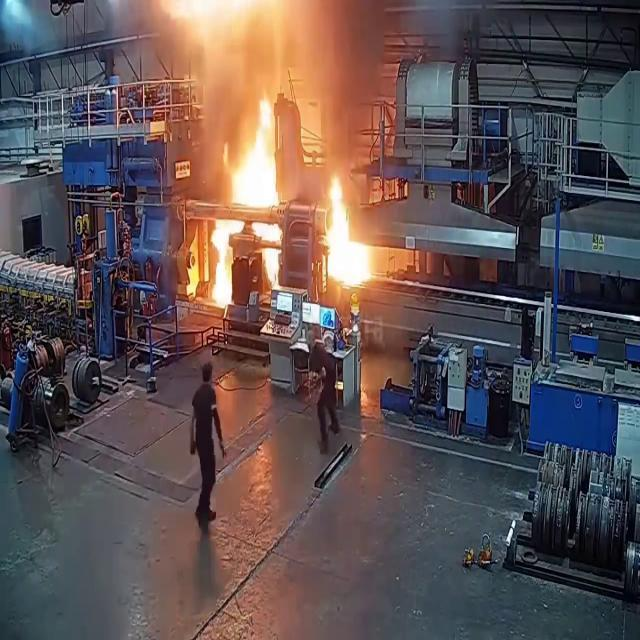Fire: (188, 92, 288, 318), (318, 168, 378, 294), (226, 95, 287, 213)
